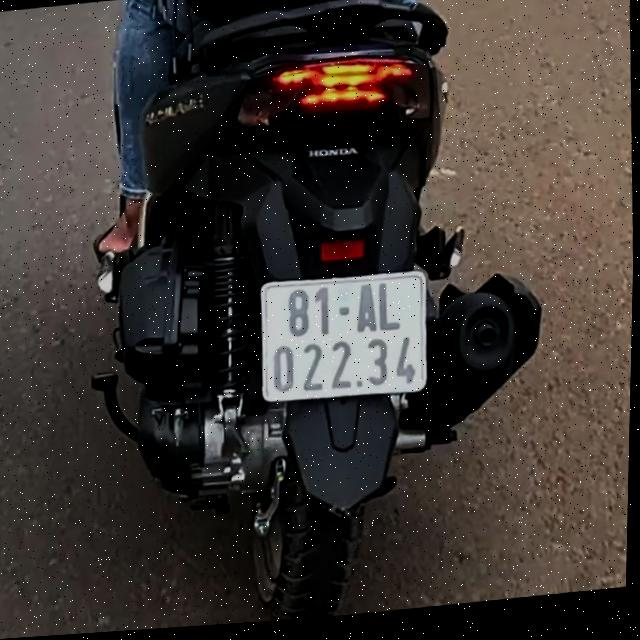motorcycle: (84, 0, 561, 633)
plate: (248, 258, 435, 418)
